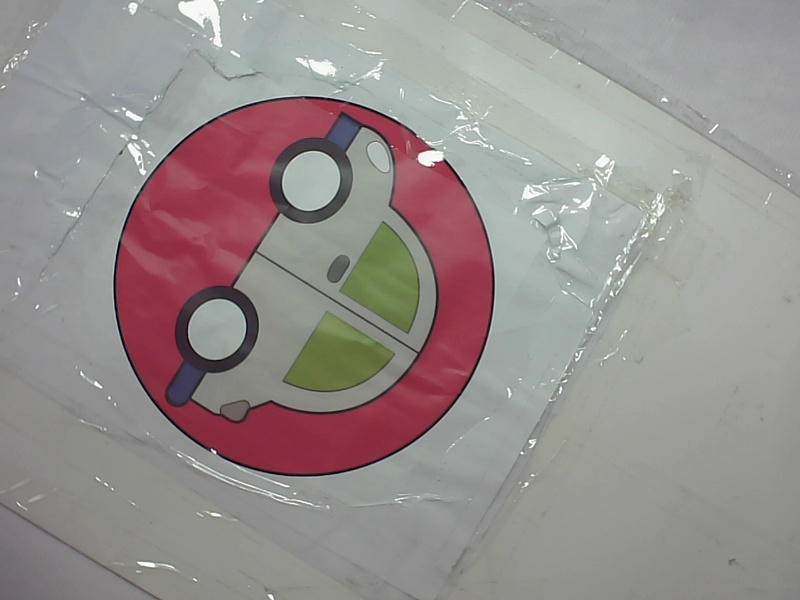areaC: (97, 75, 510, 487)
